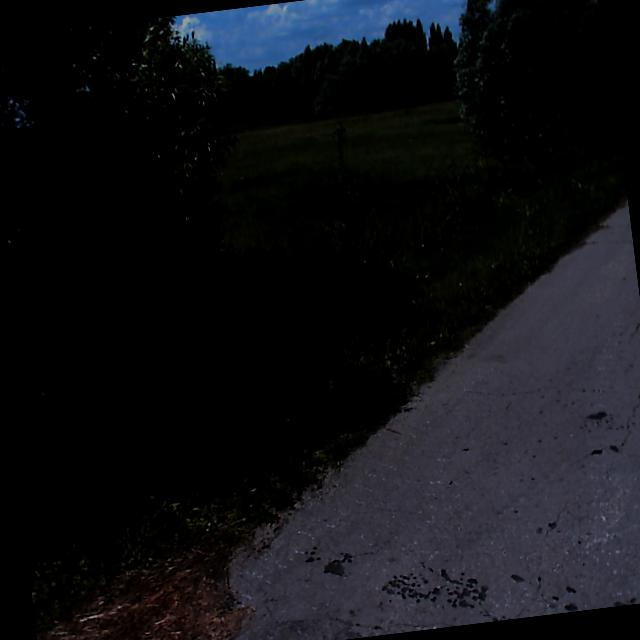road: (226, 201, 640, 640)
